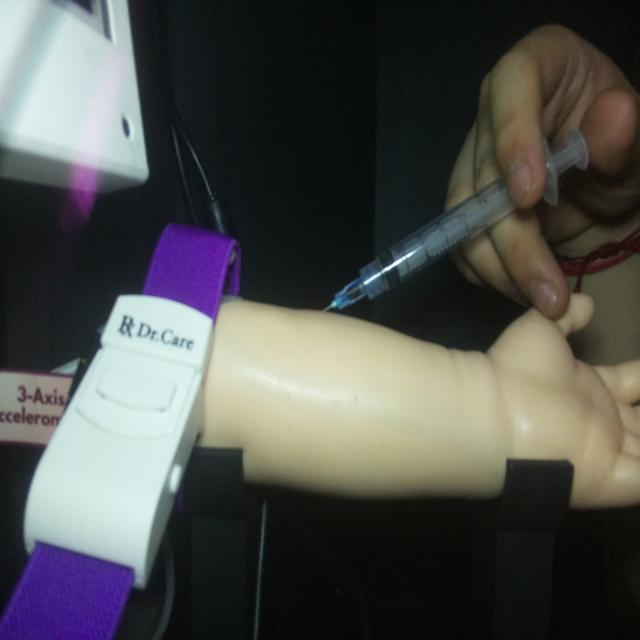24 degrees: (322, 124, 590, 315)
